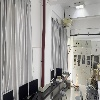fire: (75, 73, 78, 87)
